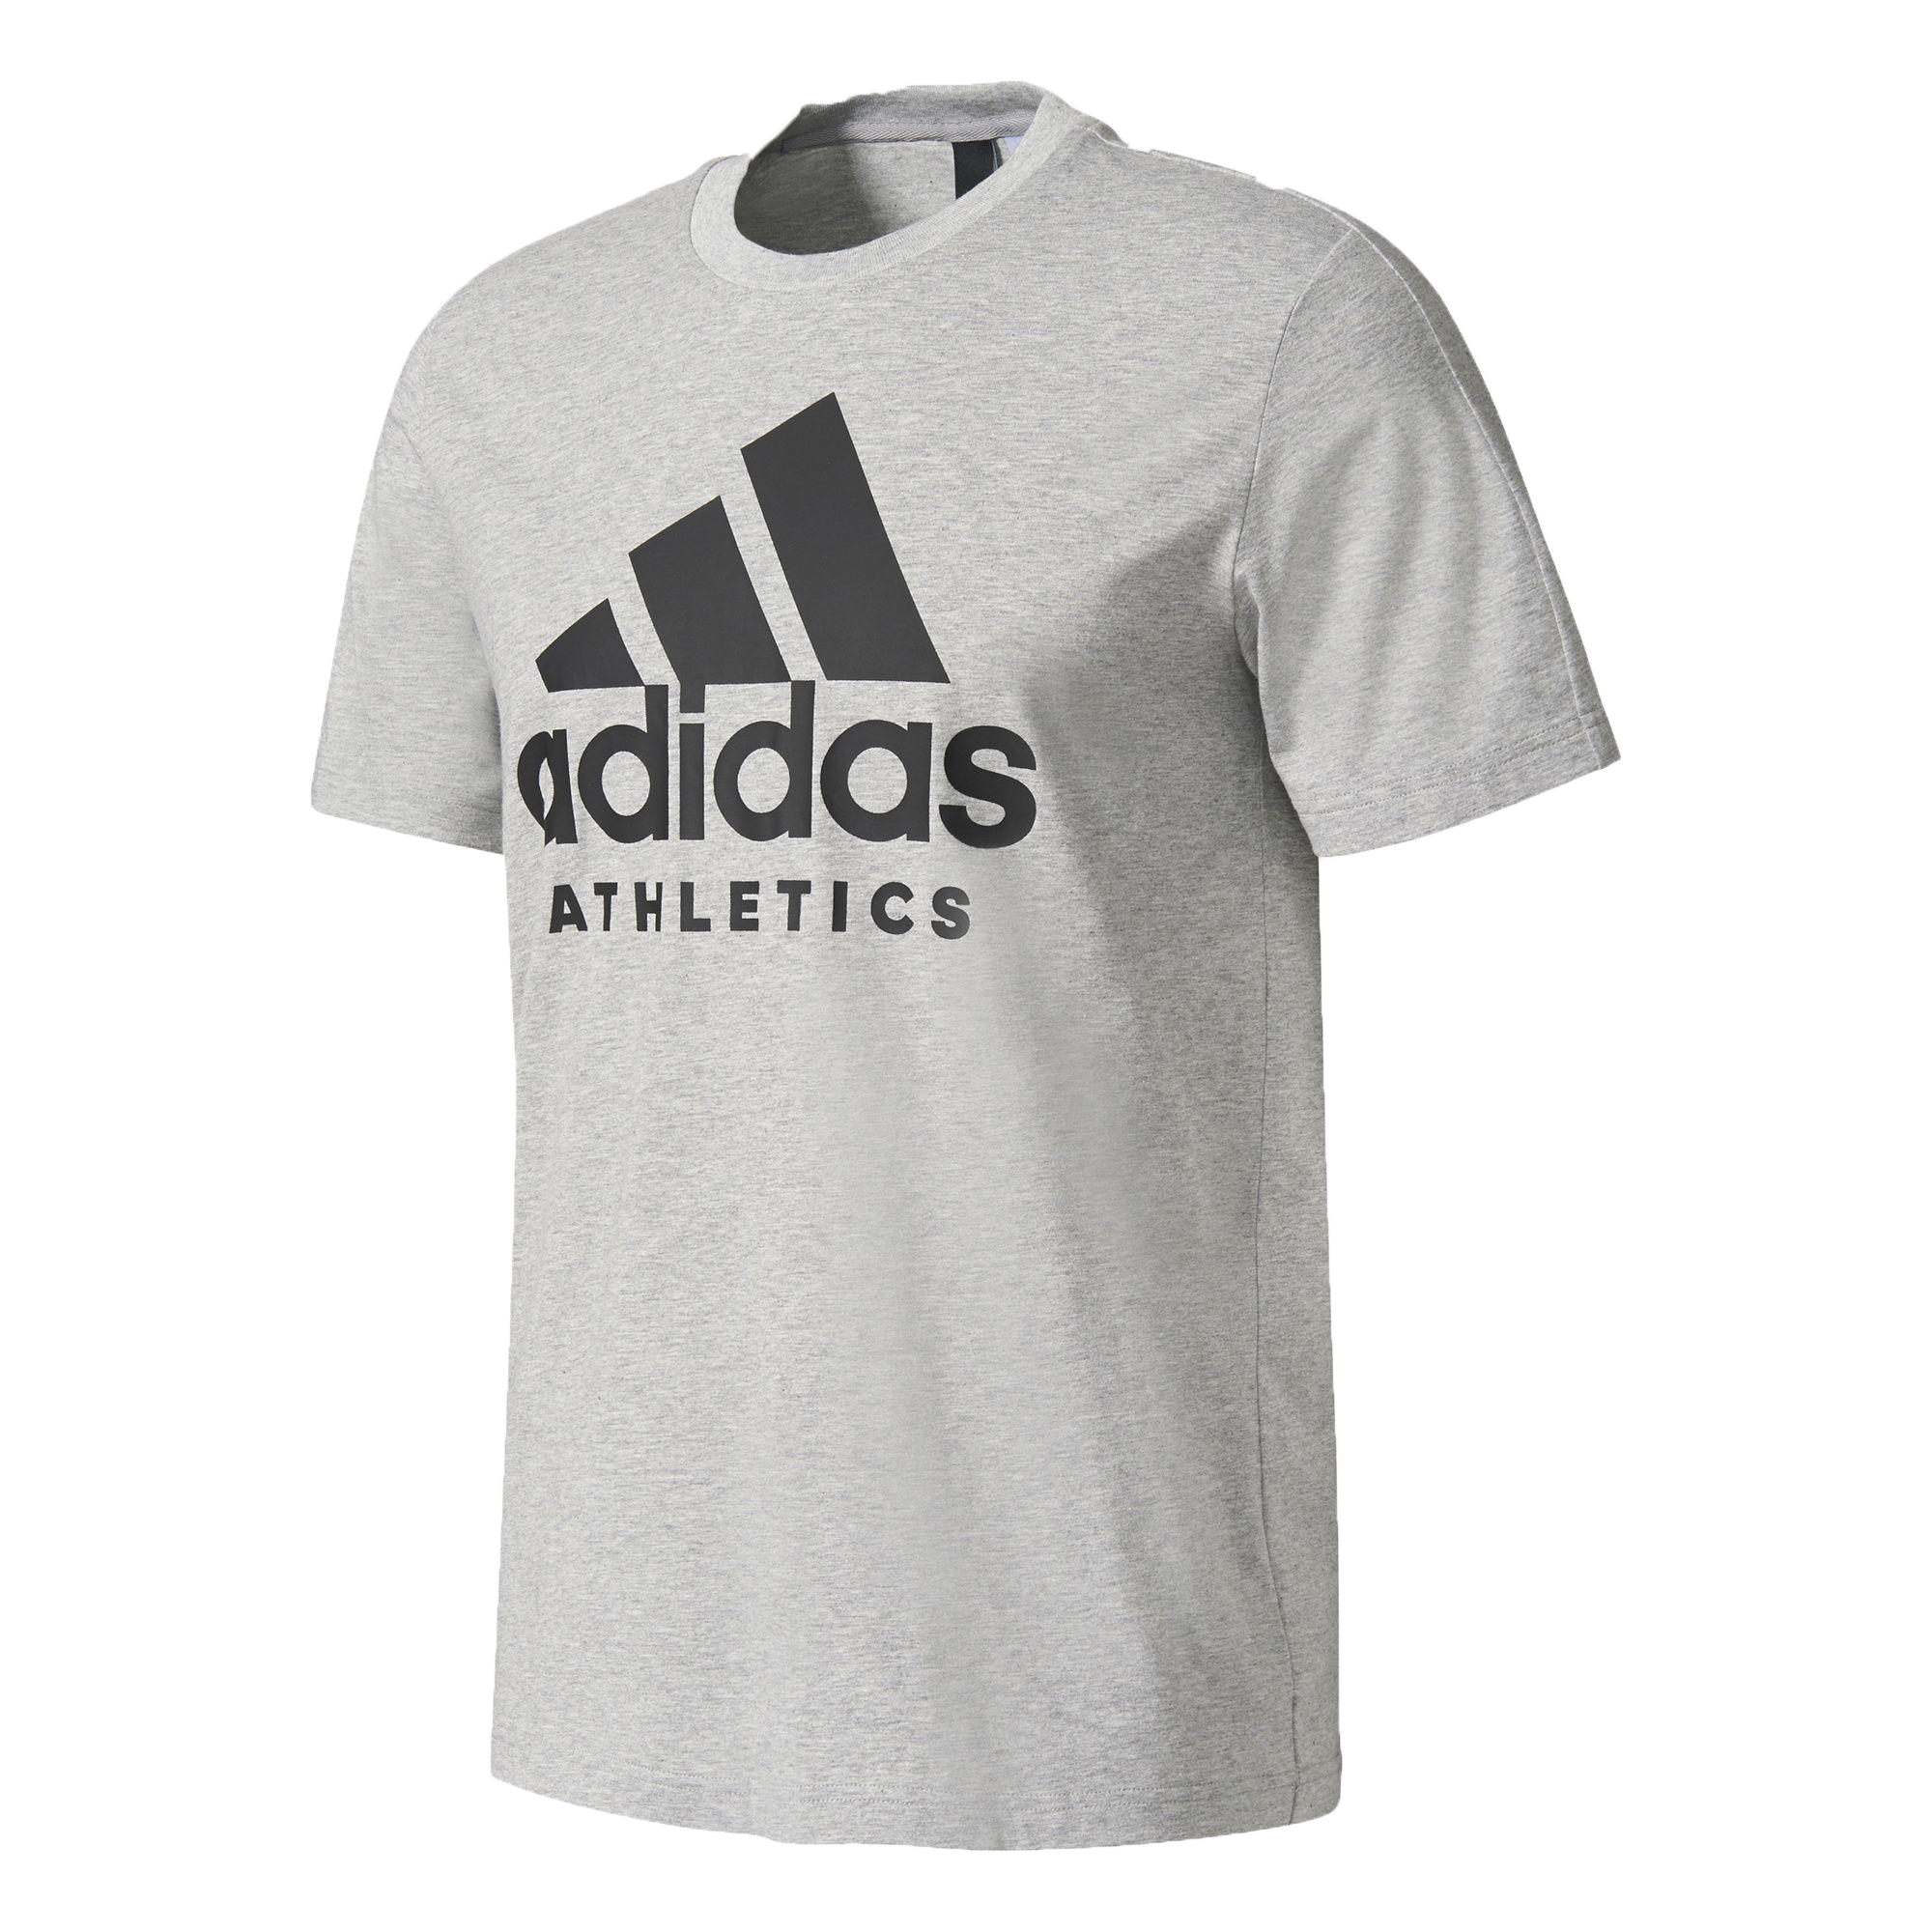teeshirt: (253, 51, 1635, 1932)
